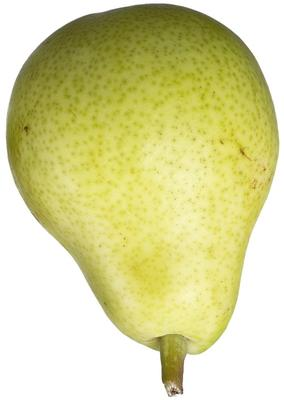pear: (0, 0, 284, 400)
